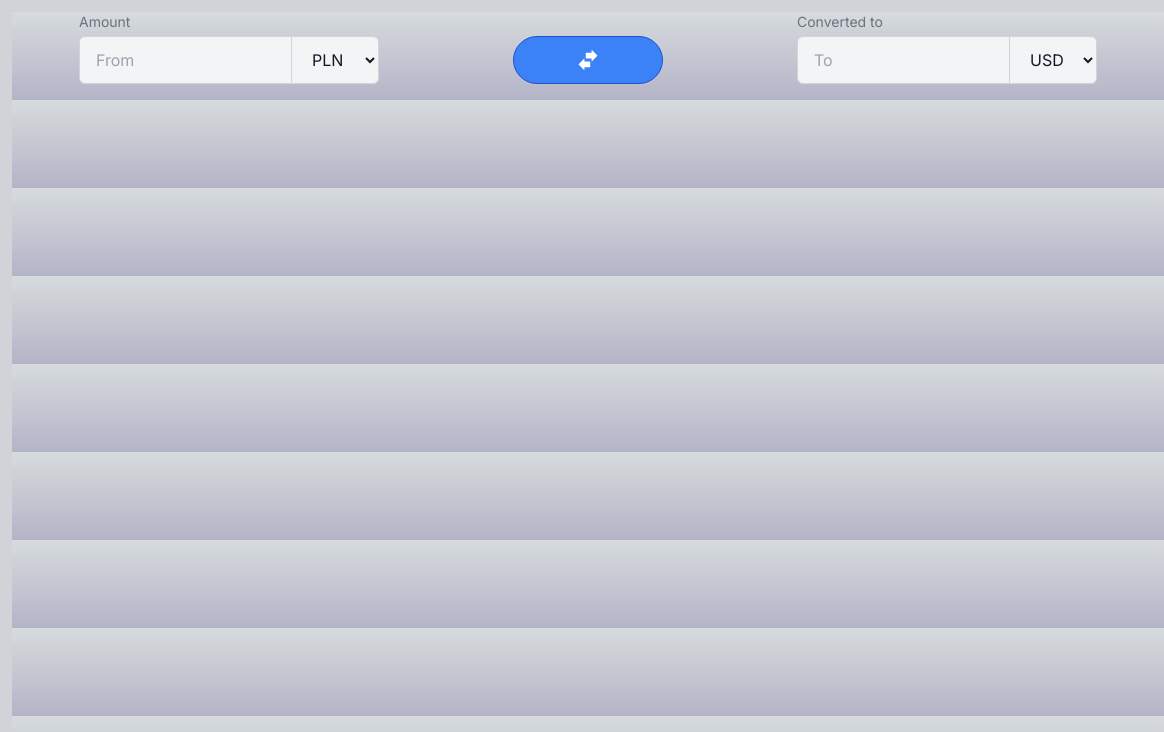
Scenario: Calculator Component › performs currency conversion on valid input
Step 1. Type "100" into the field with placeholder "From" → (229, 60), box [79,36,379,84]
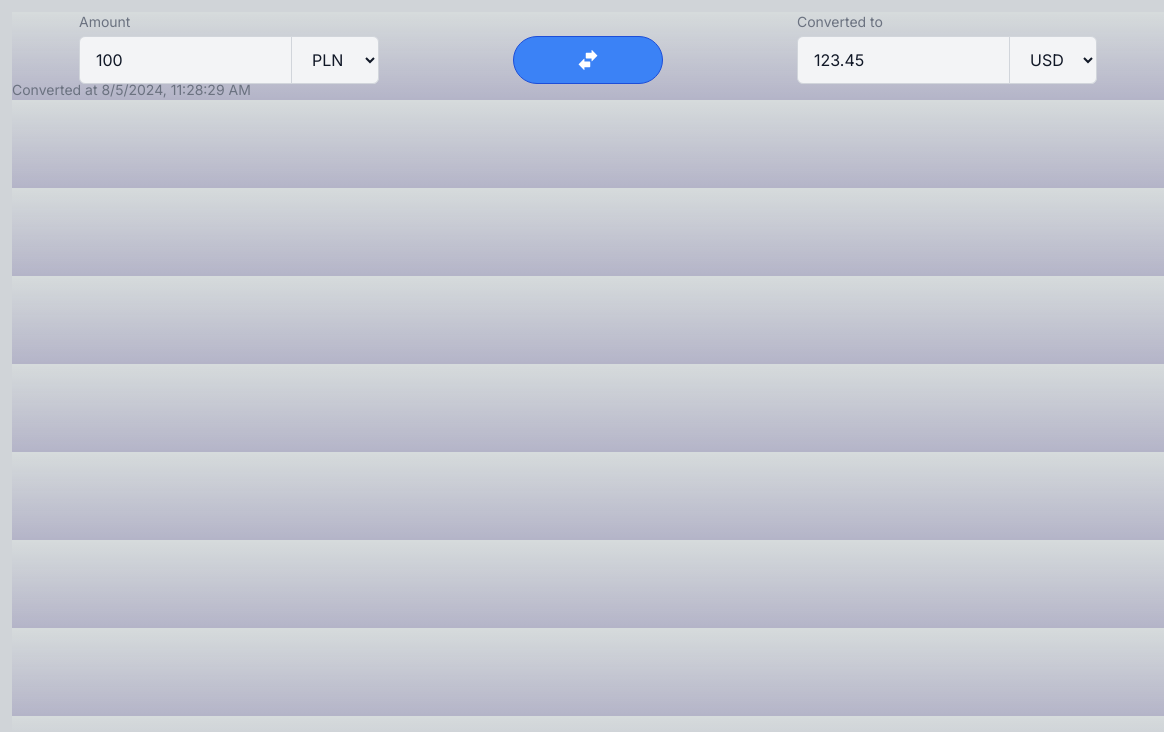
Expected: the field showing "123.45" below "Converted to" is shown, [797,36,1097,84]
